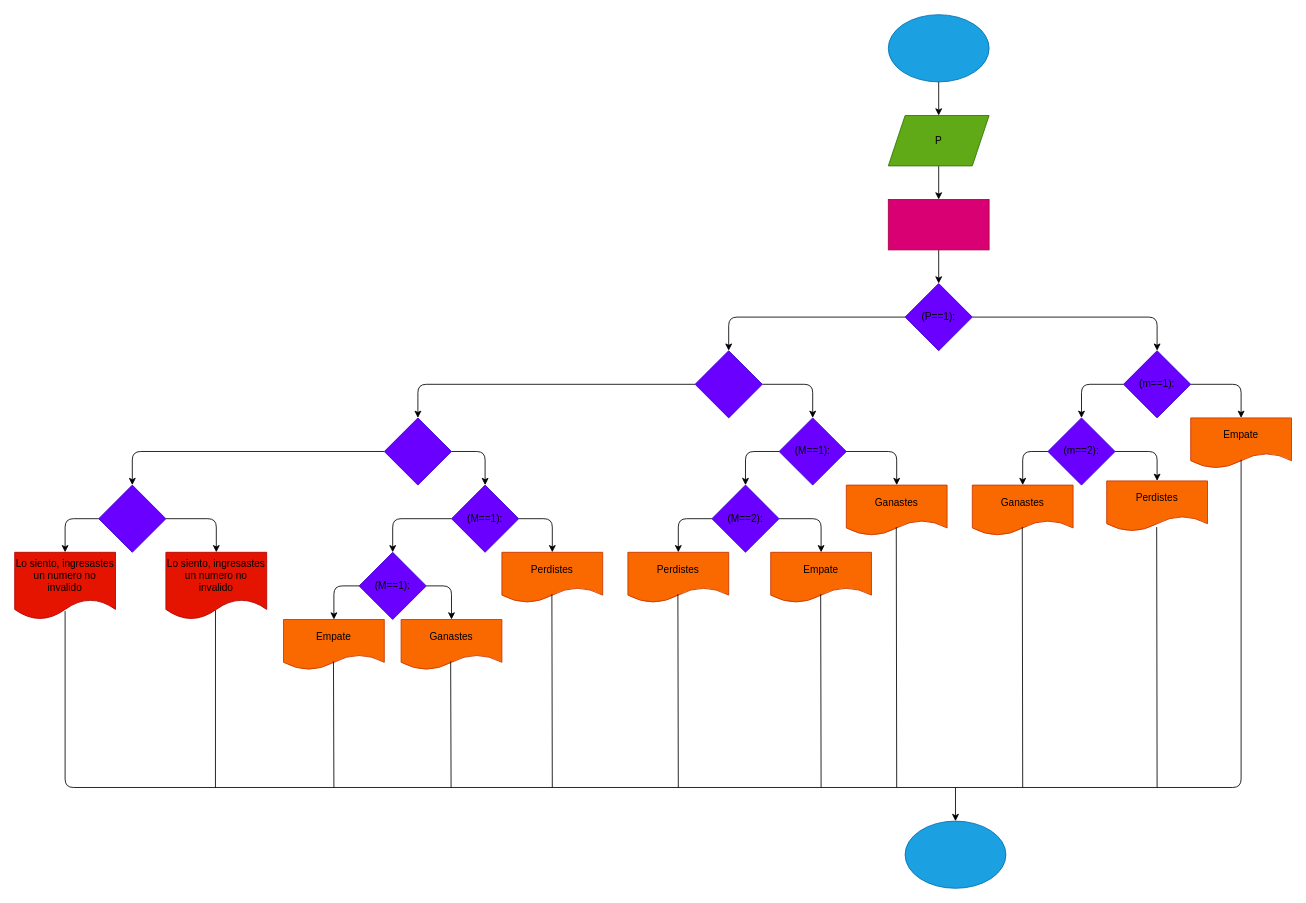
Image size: 1306x903. Some labels were removed from this diagram. The shapes that lost their labels are listed below. From the top down, each one's centre as x and y in pixels, then its label:
point 938,48: INICIO
point 938,224: M = random.randint(1,3)
point 728,384: (P==2):
point 417,451: (P==3):
point 132,518: (P==4):
point 955,854: FIN
